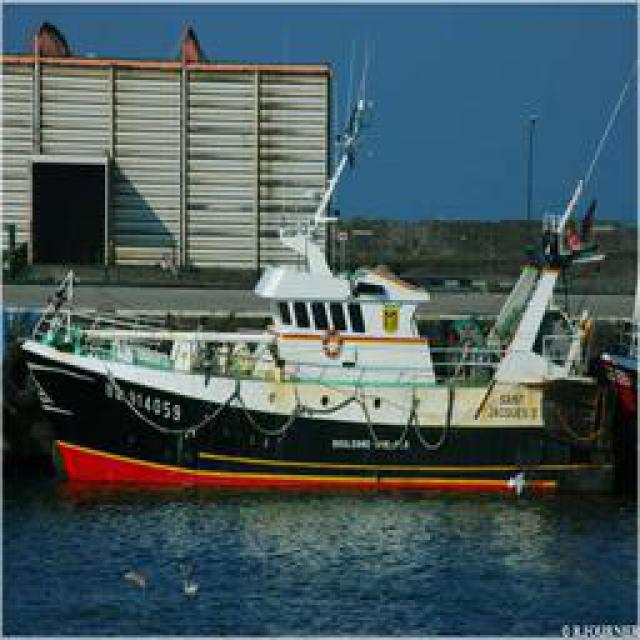Ship: (29, 40, 632, 495)
